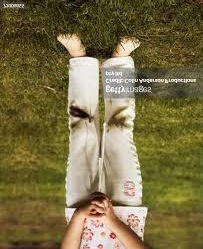earth: (70, 105, 93, 128), (107, 109, 128, 130)
